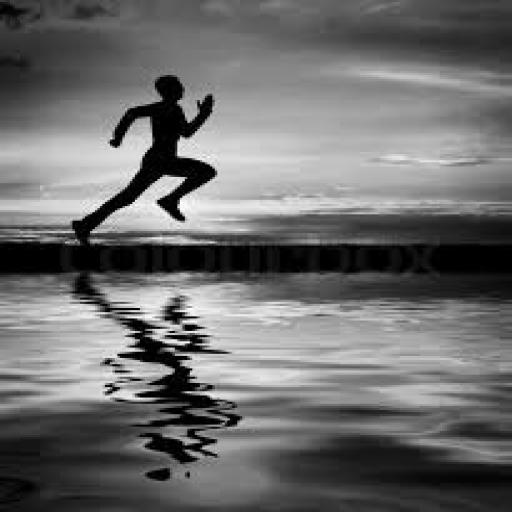running: (65, 71, 222, 250)
